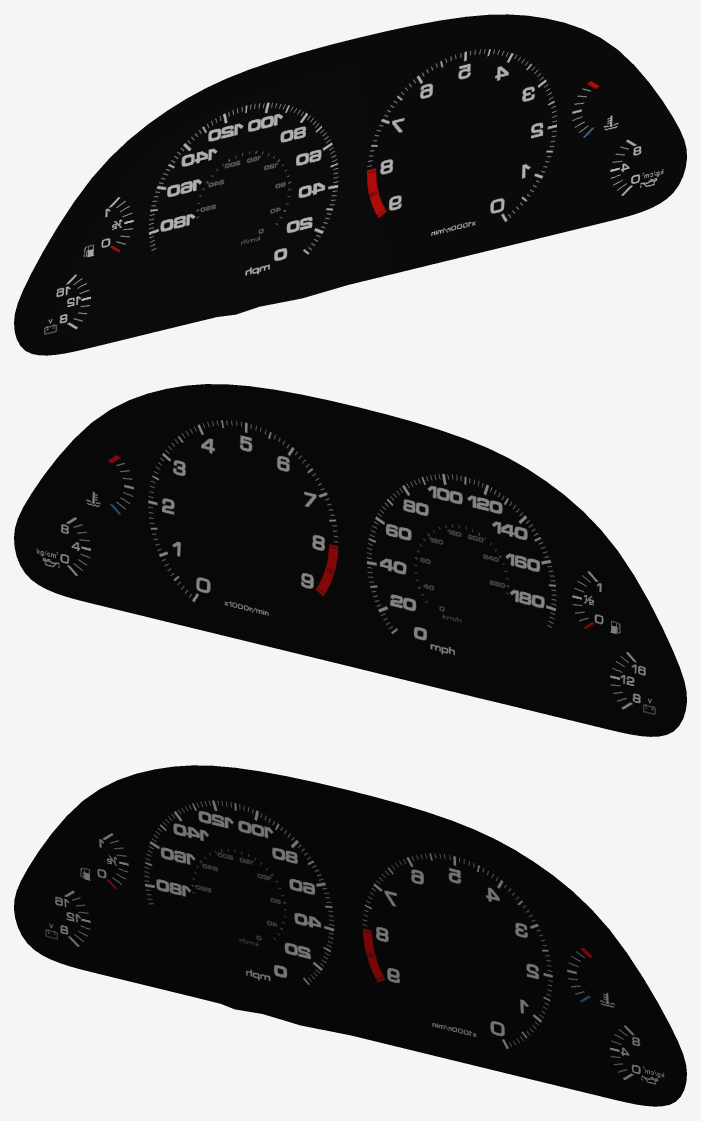
3 views of the same model, one above another, from view 1: azimuth 30°, elevation 25°; view 2: azimuth 150°, elevation 25°; view 3: azimuth 330°, elevation 25° (orthographic).
Parts seen in each view (by area): view 1: cpit_x_dials_lit_lhd; view 2: cpit_x_dials_lit_lhd; view 3: cpit_x_dials_lit_lhd.
Boxes of the visible parts, x1=… form: cpit_x_dials_lit_lhd: x1=14, y1=14, x2=686, y2=355; cpit_x_dials_lit_lhd: x1=14, y1=384, x2=686, y2=736; cpit_x_dials_lit_lhd: x1=14, y1=765, x2=686, y2=1106.
Bounding box in the file's own units: 0.3501 × 0.1258 × 0.00767.
